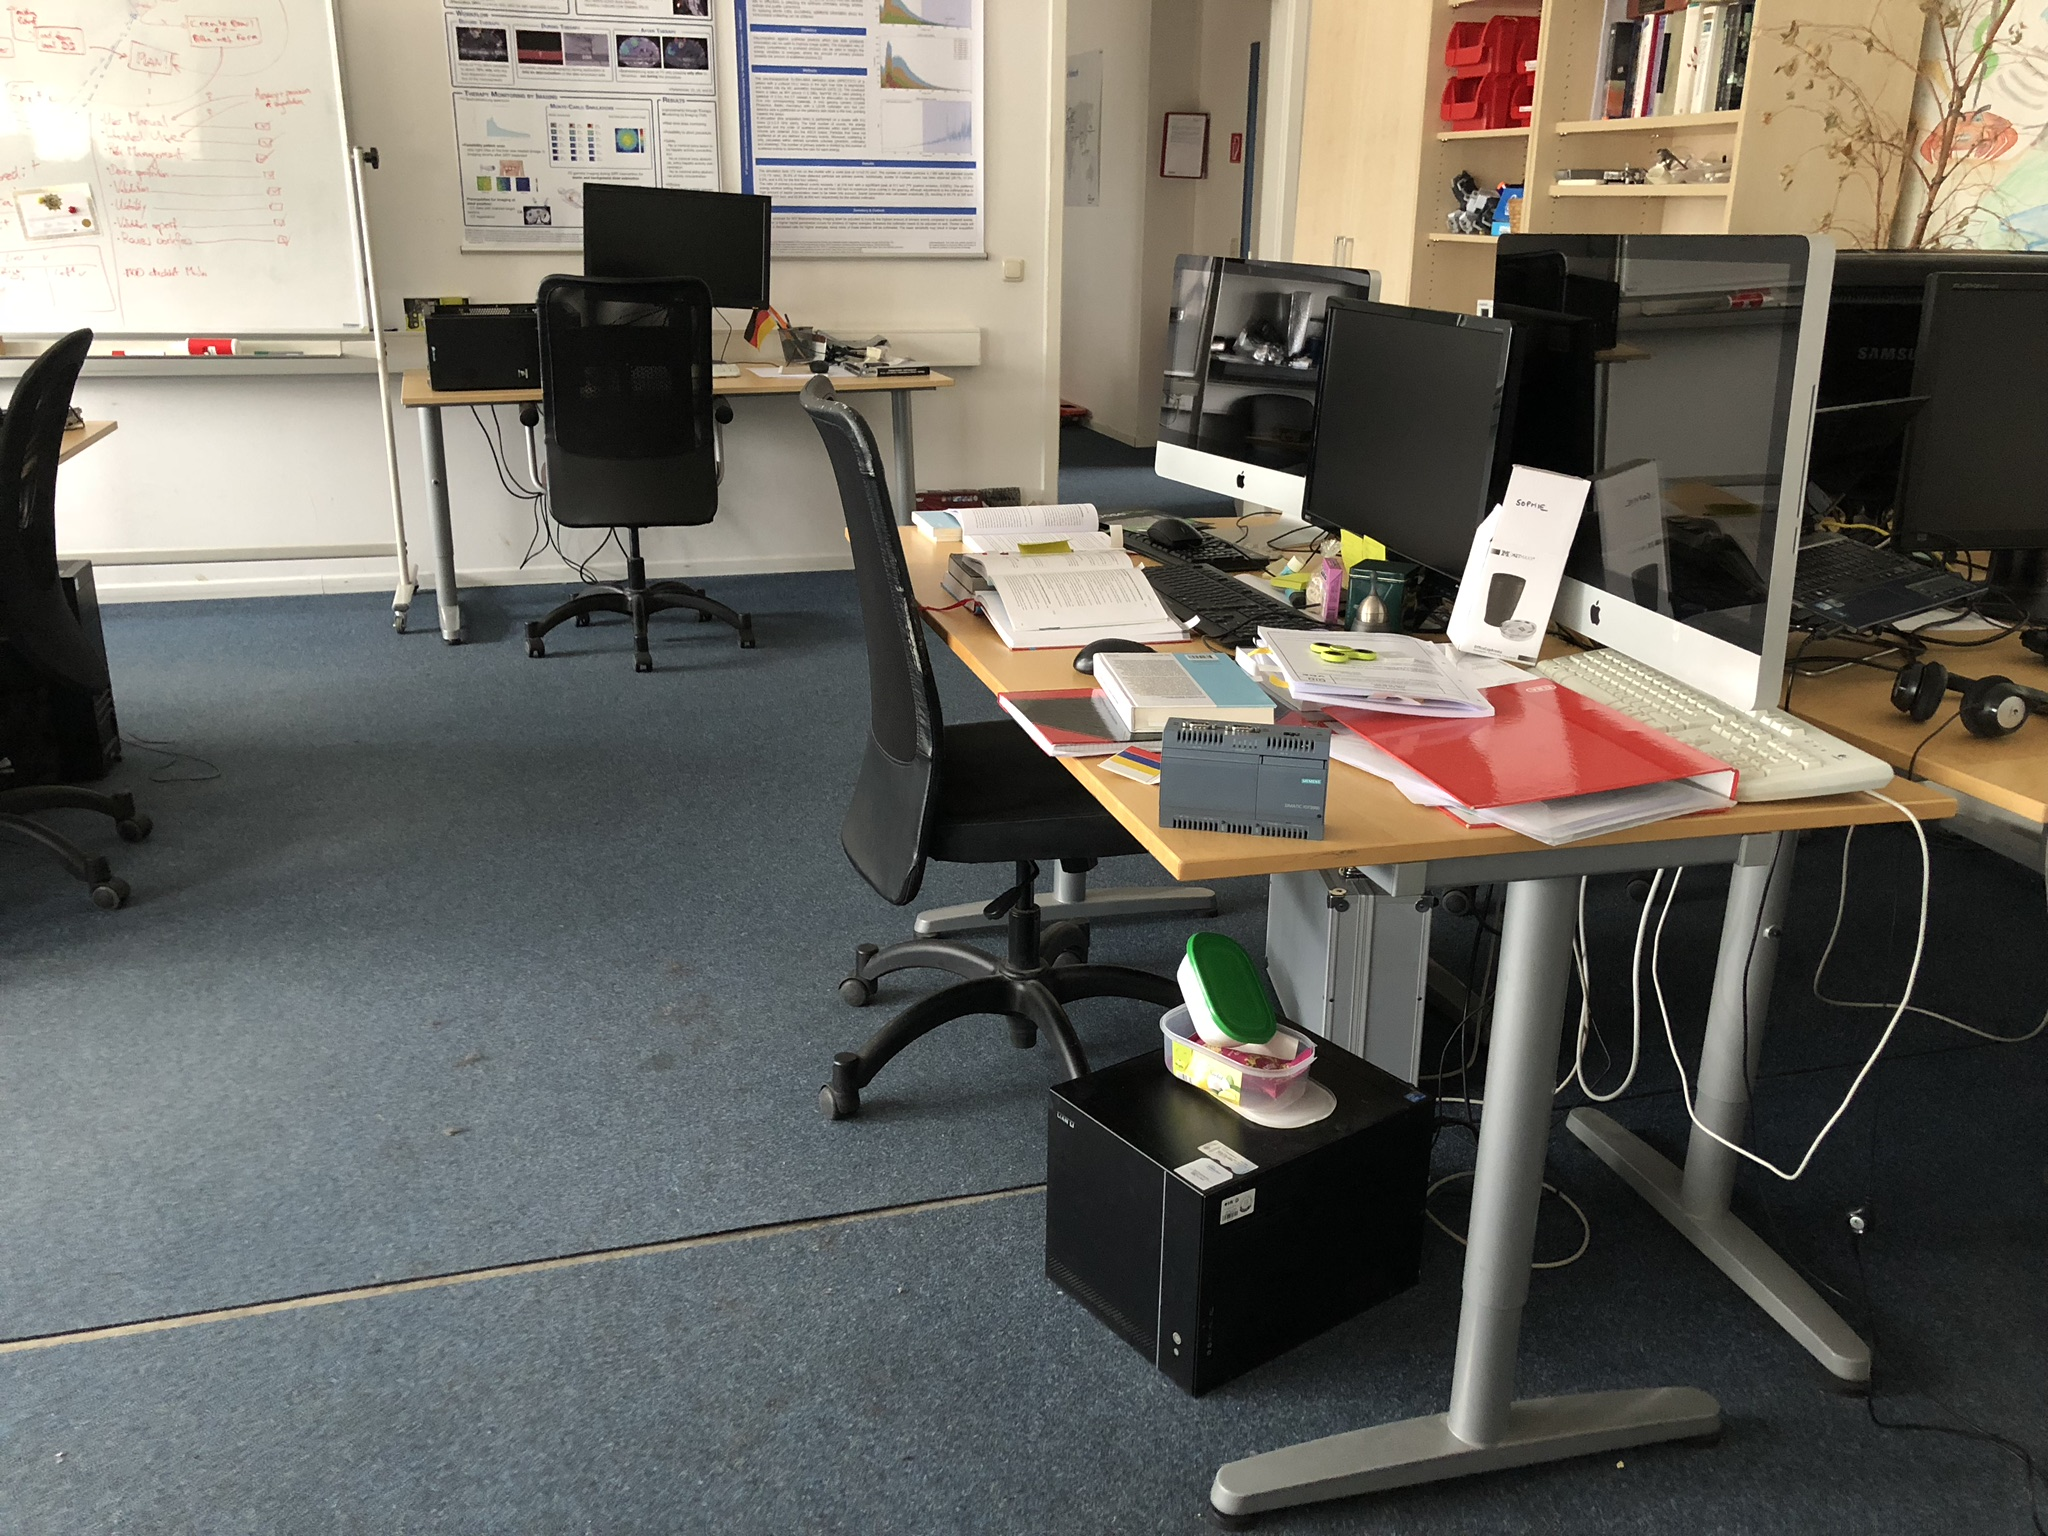device: (1159, 716, 1332, 841)
